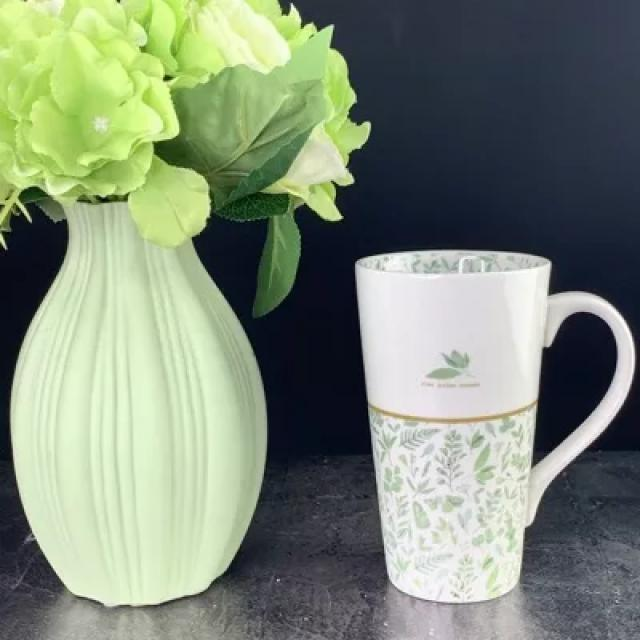cup: (353, 247, 634, 602)
